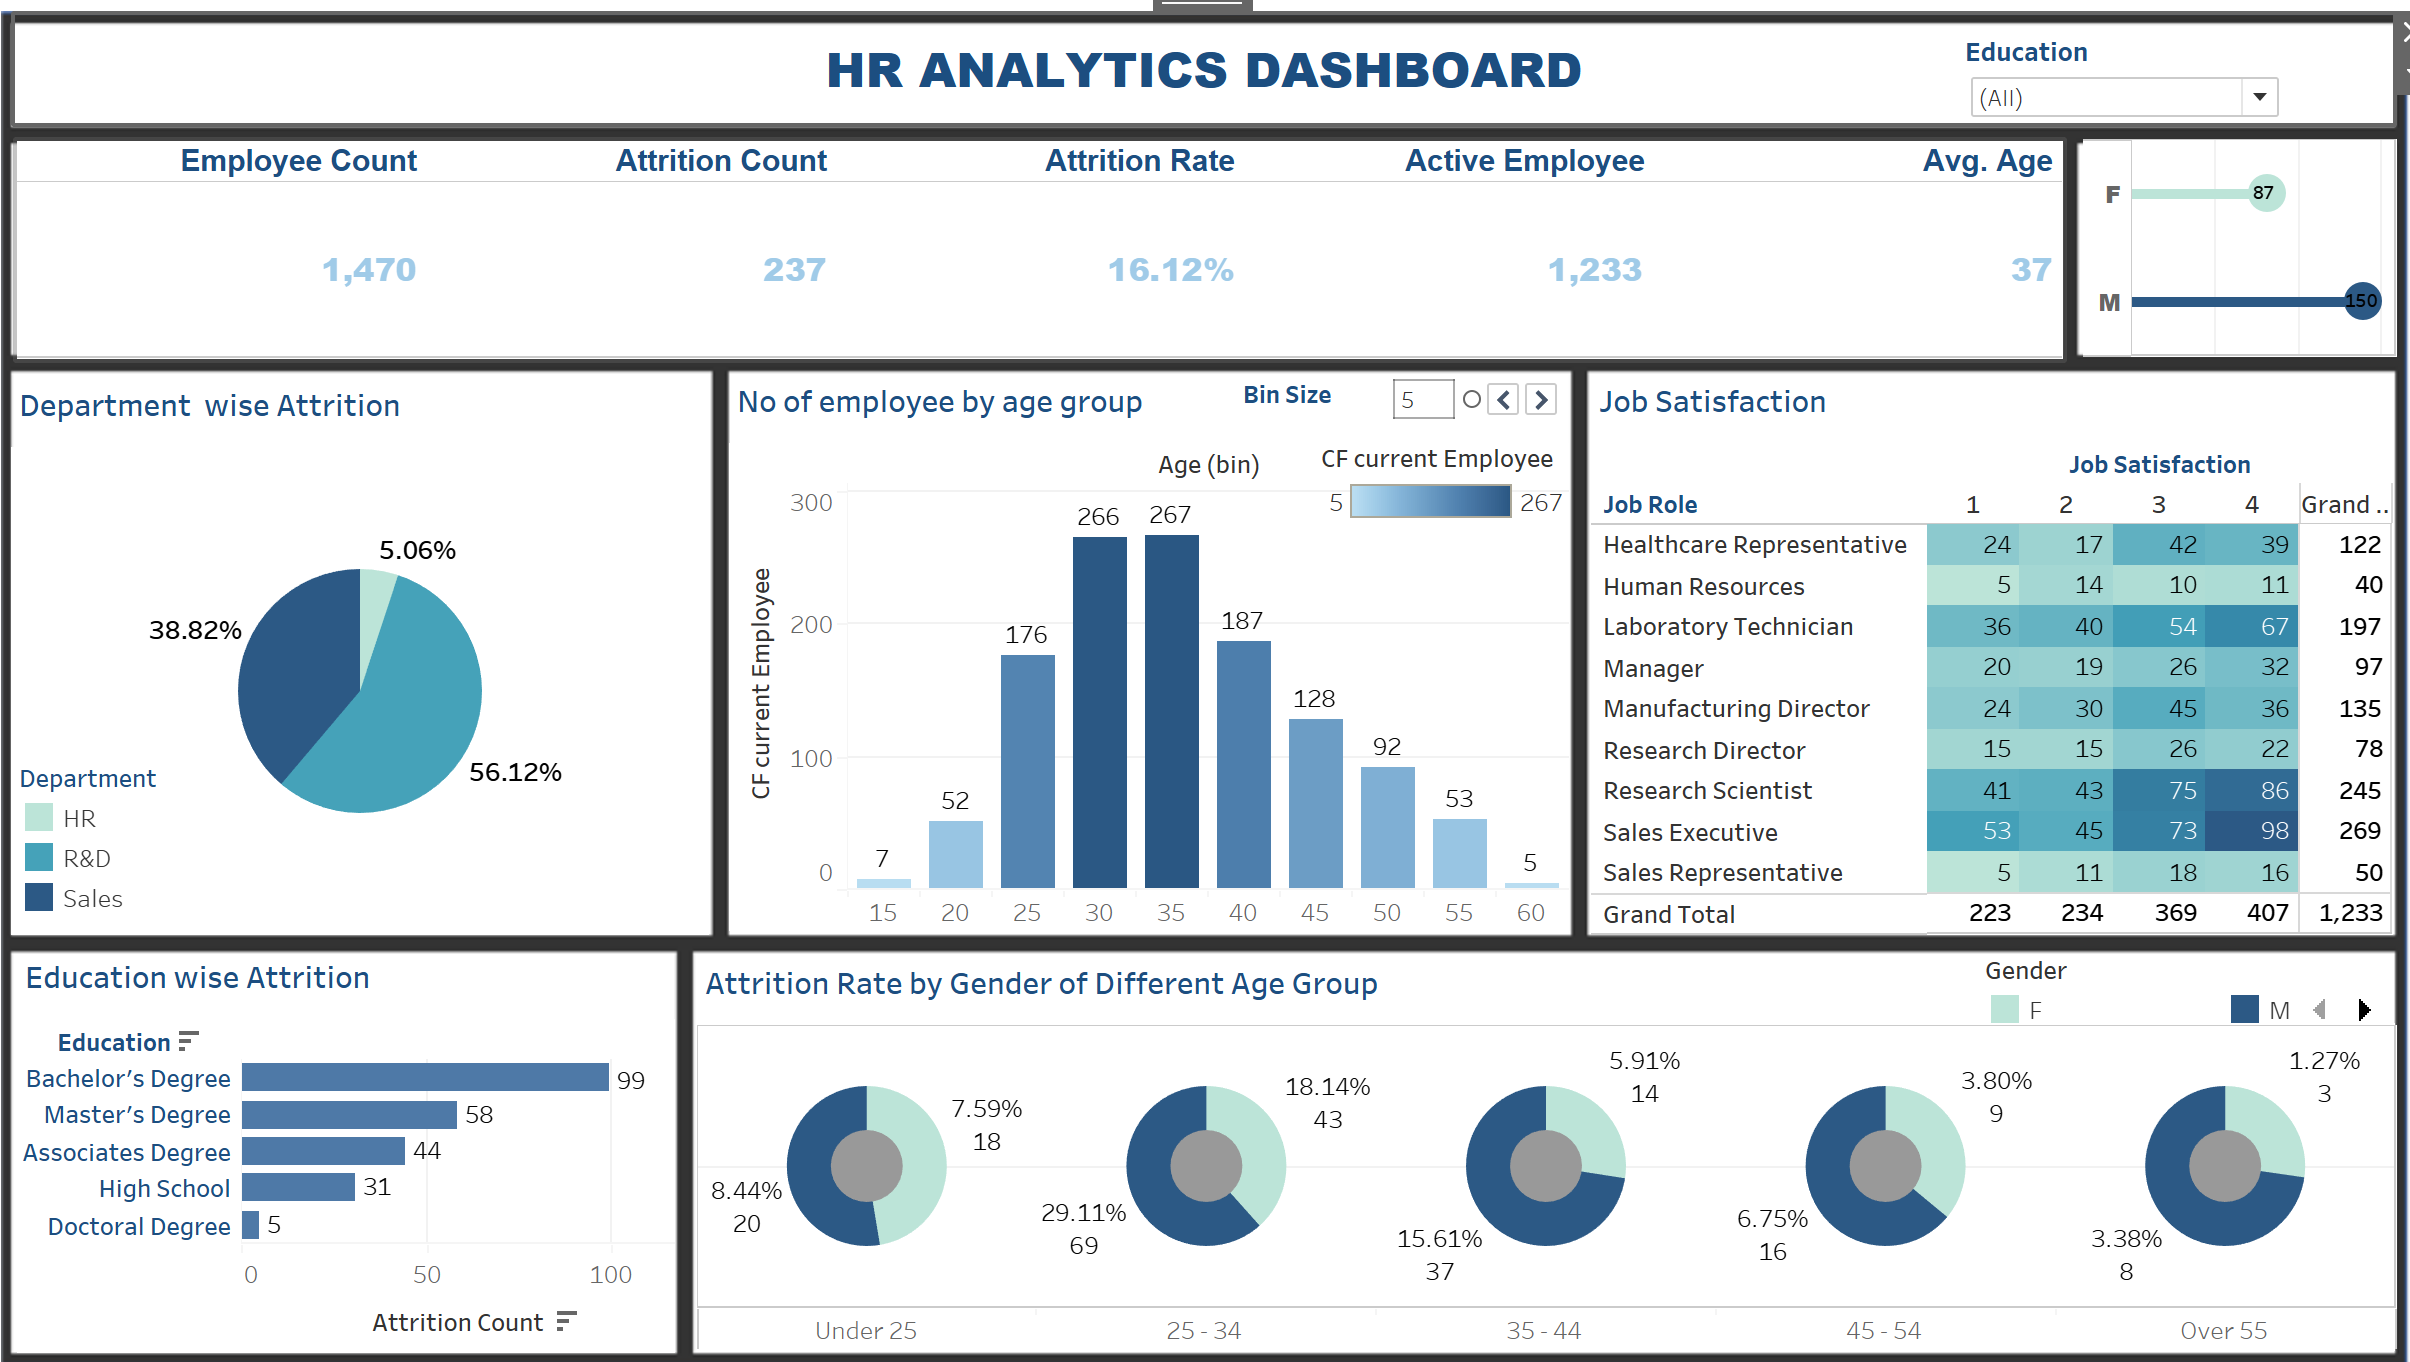

The dashboard page shown, as its layout file describes it:
{"tool":"tableau","page":{"name":"HR Analytics","canvas":[1000,1000],"units":"permille","ordinal":0},"visuals":[{"type":"image","param":"C:/Users/rujus/OneDrive/Desktop/DMA/hr_backgrounf_final.png","box":[6.5,11.2,987,977.7]},{"type":"text","box":[15.4,29.3,967.6,75.4]},{"type":"filter","title":"Departmentwise Attrition","param":"[federated.036gc8911v02kw11l3cz51vd849t].[none:Education:nk]","box":[808.8,41.9,130.2,62.9]},{"type":"worksheet","title":"Attrition by gender","mark":"Automatic","rows":["Gender"],"cols":["Calculation_2294021103321272320","Calculation_2294021103321272320"],"box":[856.8,115.9,127.8,152.2]},{"type":"worksheet","title":"KPI","mark":"Automatic","box":[16.3,117.3,832.4,152.2]},{"type":"worksheet","title":"No of employee by age group","mark":"Automatic","rows":["CF_current Employee"],"cols":["Age (bin)"],"box":[305.9,277.9,341.7,391.1]},{"type":"worksheet","title":"Job Satisfaction","mark":"Square","rows":["Job Role"],"cols":["Job Satisfaction"],"box":[656.6,277.9,326.3,393.9]},{"type":"parameter","param":"[Parameters].[Age Parameter]","box":[515,279.3,130.2,50.3]},{"type":"worksheet","title":"Departmentwise Attrition","mark":"Pie","box":[13.8,280.7,284,391.1]},{"type":"legend","title":"No of employee by age group","param":"[federated.036gc8911v02kw11l3cz51vd849t].[sum:CF_current Employee:qk]","box":[546.8,326.8,102.5,54.5]},{"type":"legend","title":"Departmentwise Attrition","param":"[federated.036gc8911v02kw11l3cz51vd849t].[none:Department:nk]","box":[17.1,550.3,75.7,117.3]},{"type":"worksheet","title":"Education wise Attrition","mark":"Automatic","rows":["Education"],"cols":["Calculation_2294021103321272320"],"box":[16.3,680.2,267.7,283.5]},{"type":"worksheet","title":"Attrition Rate by Gender of Different Age Group","mark":"Pie","rows":["Calculation_1329406359072550913","Calculation_1329406359072550913"],"cols":["CF_age band"],"box":[292.9,684.4,691.6,277.9]},{"type":"legend","title":"Attrition Rate by Gender of Different Age Group","param":"[federated.036gc8911v02kw11l3cz51vd849t].[none:Gender:nk]","box":[816.9,684.4,164.4,53.1]}]}

Visuals, with their boxes on the dashboard's canvas, which has no fixed pixel size, in thousandths of its width and height (x1, y1, x2, y2). These are canvas units, not pixel positions in the 2410x1362 screenshot, which may show the page scaled, cropped or inside an application window:
image: x1=6, y1=11, x2=994, y2=989
text: x1=15, y1=29, x2=983, y2=105
"Departmentwise Attrition" filter: x1=809, y1=42, x2=939, y2=105
"Attrition by gender" worksheet: x1=857, y1=116, x2=985, y2=268
"KPI" worksheet: x1=16, y1=117, x2=849, y2=270
"No of employee by age group" worksheet: x1=306, y1=278, x2=648, y2=669
"Job Satisfaction" worksheet (Square marks): x1=657, y1=278, x2=983, y2=672
parameter: x1=515, y1=279, x2=645, y2=330
"Departmentwise Attrition" worksheet (Pie marks): x1=14, y1=281, x2=298, y2=672
"No of employee by age group" legend: x1=547, y1=327, x2=649, y2=381
"Departmentwise Attrition" legend: x1=17, y1=550, x2=93, y2=668
"Education wise Attrition" worksheet: x1=16, y1=680, x2=284, y2=964
"Attrition Rate by Gender of Different Age Group" worksheet (Pie marks): x1=293, y1=684, x2=984, y2=962
"Attrition Rate by Gender of Different Age Group" legend: x1=817, y1=684, x2=981, y2=738
